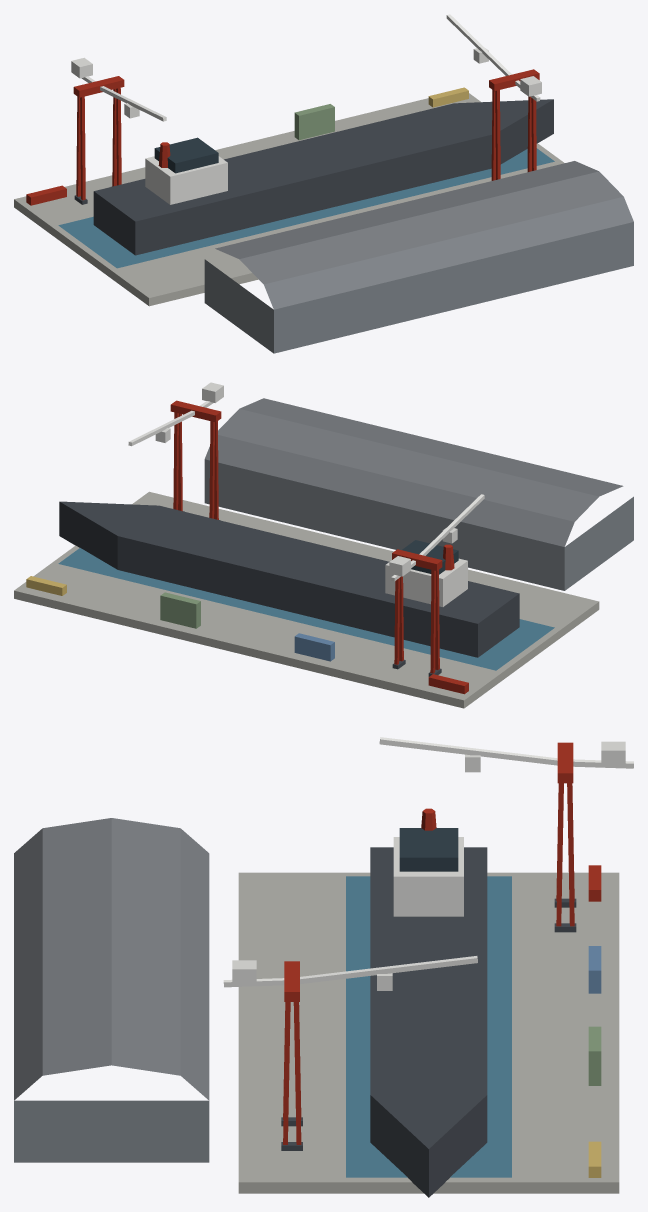
File: mobile-low.glb
3 renders of one model, top to bottom at view 1: azimuth 30°, elevation 25°; view 2: azimuth 150°, elevation 25°; view 3: azimuth 270°, elevation 25°, orthographic. The views are drawn at different scales.
Parts seen in each view (by area): view 1: lm.hunters-point-yard; view 2: lm.hunters-point-yard; view 3: lm.hunters-point-yard.
Boxes of the visible parts, box(x1,y1,x2,y2) form: lm.hunters-point-yard: box(14, 14, 633, 353); lm.hunters-point-yard: box(14, 382, 633, 708); lm.hunters-point-yard: box(14, 737, 633, 1197).
Bounding box in the file's own units: 157 × 43.26 × 127.
